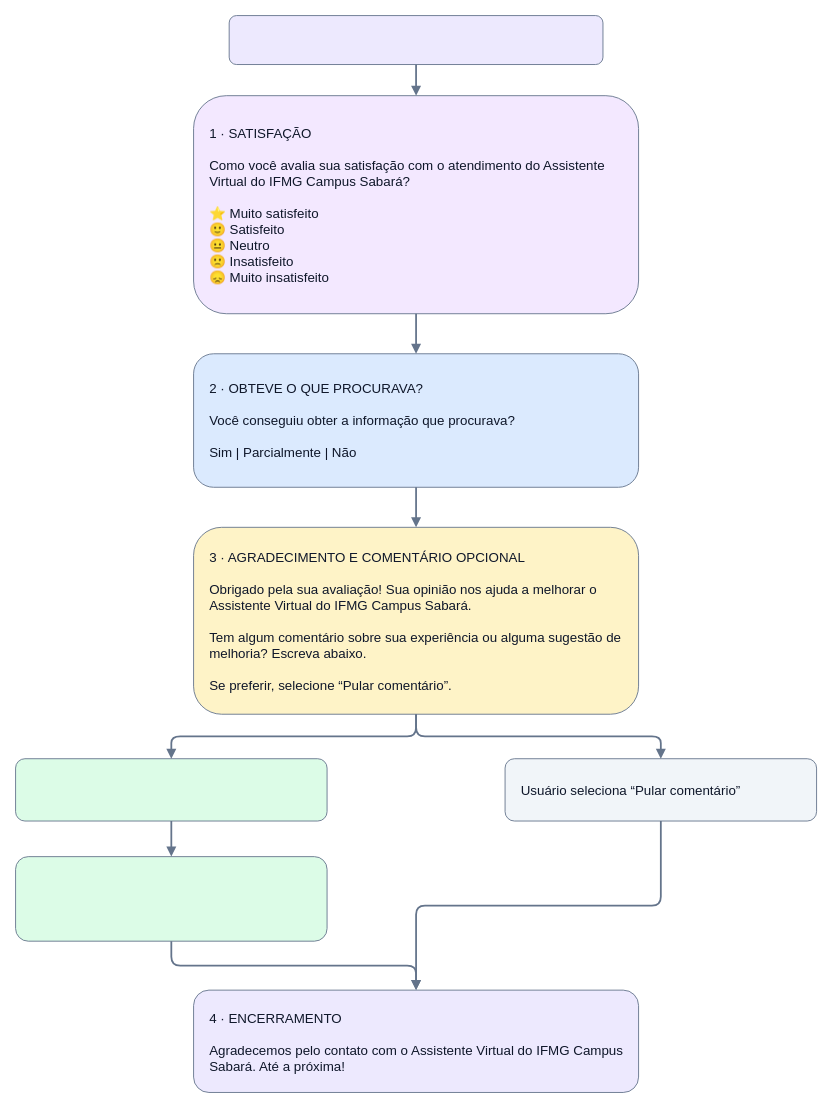
Image size: 832x1108. Some labels were removed from this diagram. Here are the shapes that lost their labels. From the top down, the box of each, then its label:
(228, 15, 603, 65): PESQUISA DE SATISFAÇÃO
(15, 758, 327, 821): Usuário envia um comentário
(15, 856, 327, 941): Obrigado por compartilhar! Seu comentário nos ajudará a melhorar o atendimento.
